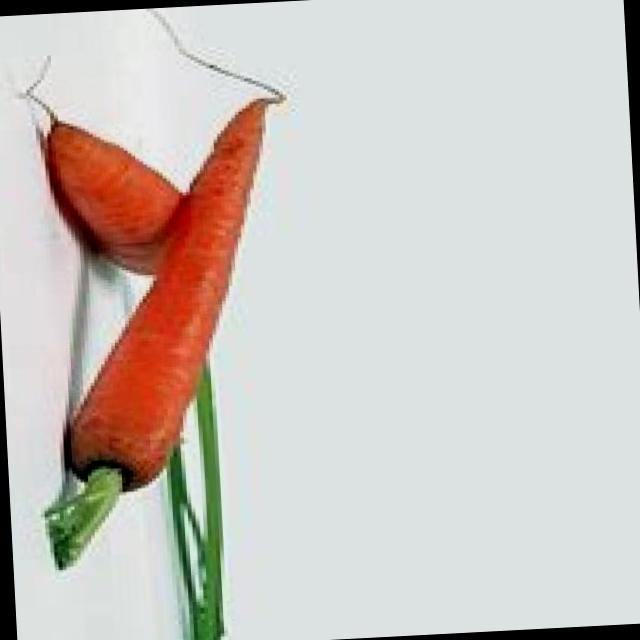carrot: (61, 97, 272, 487), (42, 119, 179, 276)
